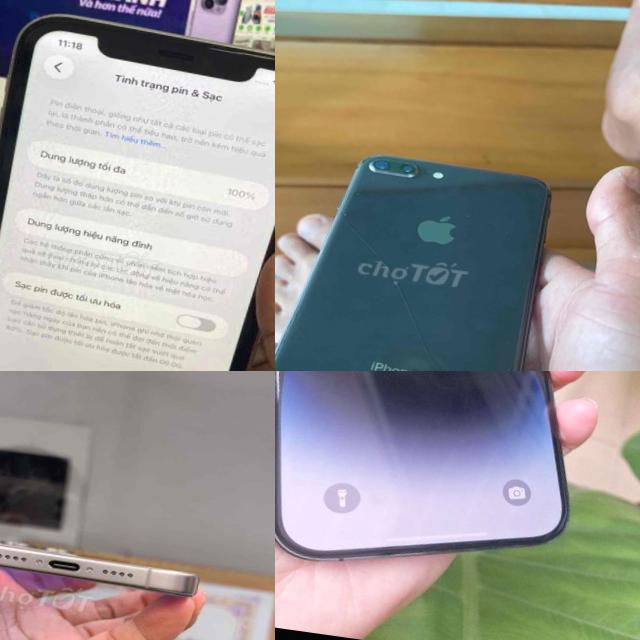gen_11: (0, 0, 275, 371)
gen_14: (275, 371, 640, 604)
gen_15: (0, 518, 219, 621)
gen_7_8: (275, 129, 554, 371)
physical_damage: (299, 200, 530, 371)
scratch: (192, 36, 275, 99), (352, 146, 426, 182)
